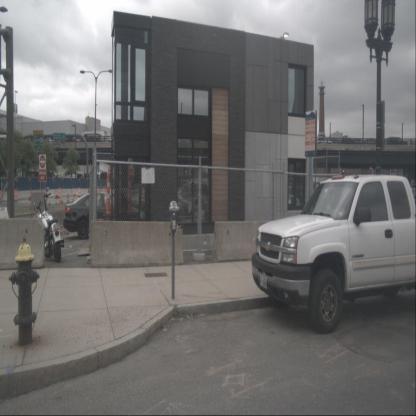barrier: (90, 220, 184, 267), (212, 219, 297, 263), (0, 217, 45, 271)
cone: (104, 166, 112, 216), (57, 187, 62, 199), (14, 190, 18, 202), (77, 187, 81, 197), (66, 190, 70, 199), (73, 188, 76, 198)
